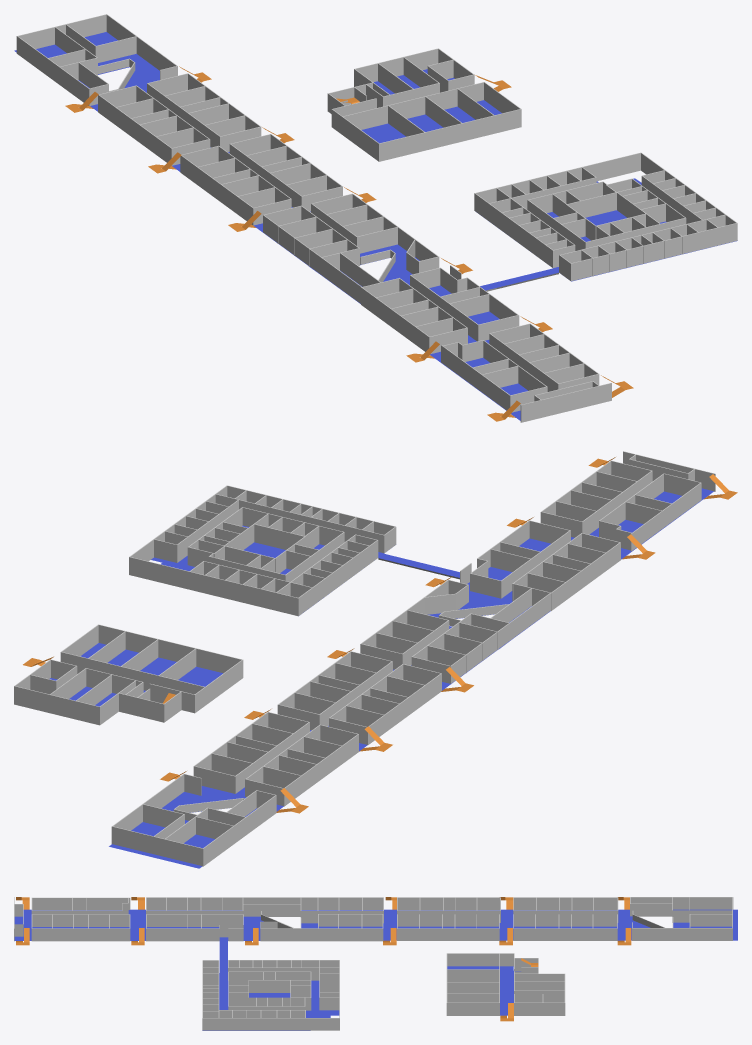
Rendered from piani1.fbx.
3 views of the same model, one above another, from view 1: azimuth 30°, elevation 25°; view 2: azimuth 150°, elevation 25°; view 3: azimuth 270°, elevation 25° (orthographic). The views are drawn at different scales.
Visible parts, largest first — view 1: FP1.walls, F2P1.walls, F3P1.walls, FP1.floor, F3P1.floor, F2P1.floor; view 2: FP1.walls, F2P1.walls, F3P1.walls, FP1.floor, F3P1.floor, F2P1.floor; view 3: FP1.walls, F2P1.walls, F3P1.walls, FP1.floor, F2P1.floor, F3P1.floor.
Part boxes in pixels (bbox=[...]): FP1.walls: bbox=[16, 14, 611, 422]; F2P1.walls: bbox=[474, 152, 737, 281]; F3P1.walls: bbox=[327, 48, 521, 161]; FP1.floor: bbox=[14, 32, 633, 421]; F3P1.floor: bbox=[336, 69, 511, 143]; F2P1.floor: bbox=[480, 178, 737, 291]; FP1.walls: bbox=[111, 451, 715, 866]; F2P1.walls: bbox=[129, 485, 396, 616]; F3P1.walls: bbox=[14, 624, 243, 725]; FP1.floor: bbox=[109, 457, 737, 868]; F3P1.floor: bbox=[23, 643, 222, 706]; F2P1.floor: bbox=[151, 525, 459, 612]; FP1.walls: bbox=[14, 897, 733, 941]; F2P1.walls: bbox=[202, 960, 339, 1030]; F3P1.walls: bbox=[446, 953, 565, 1015]; FP1.floor: bbox=[14, 897, 737, 945]; F2P1.floor: bbox=[202, 941, 339, 1030]; F3P1.floor: bbox=[447, 958, 538, 1021].
Bounding box in the file's own units: 944 × 48.32 × 2232.
